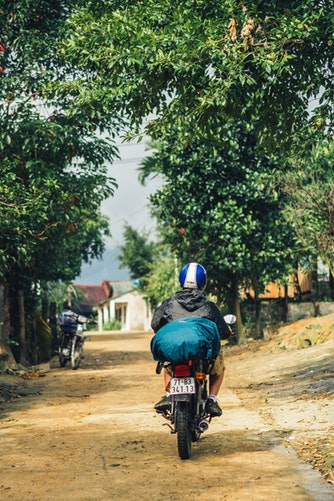helmet: (177, 255, 218, 302)
